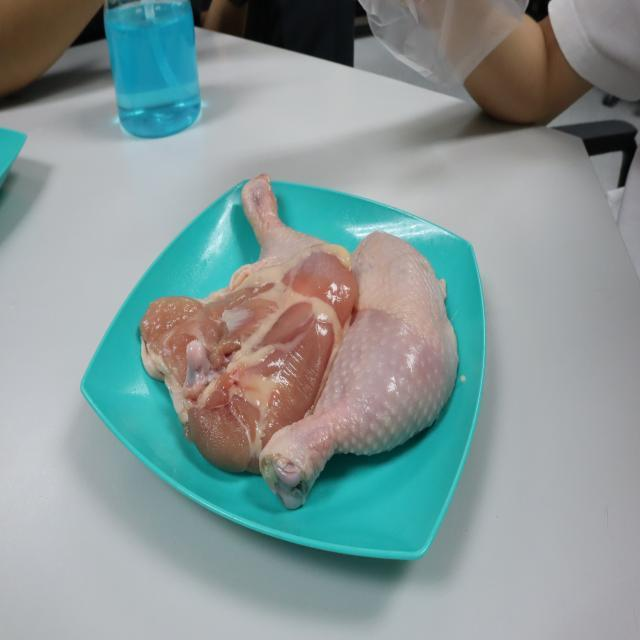quater: (264, 236, 468, 507), (162, 179, 330, 449)
